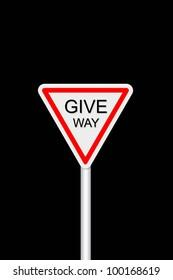Give Way: (33, 74, 140, 172)
